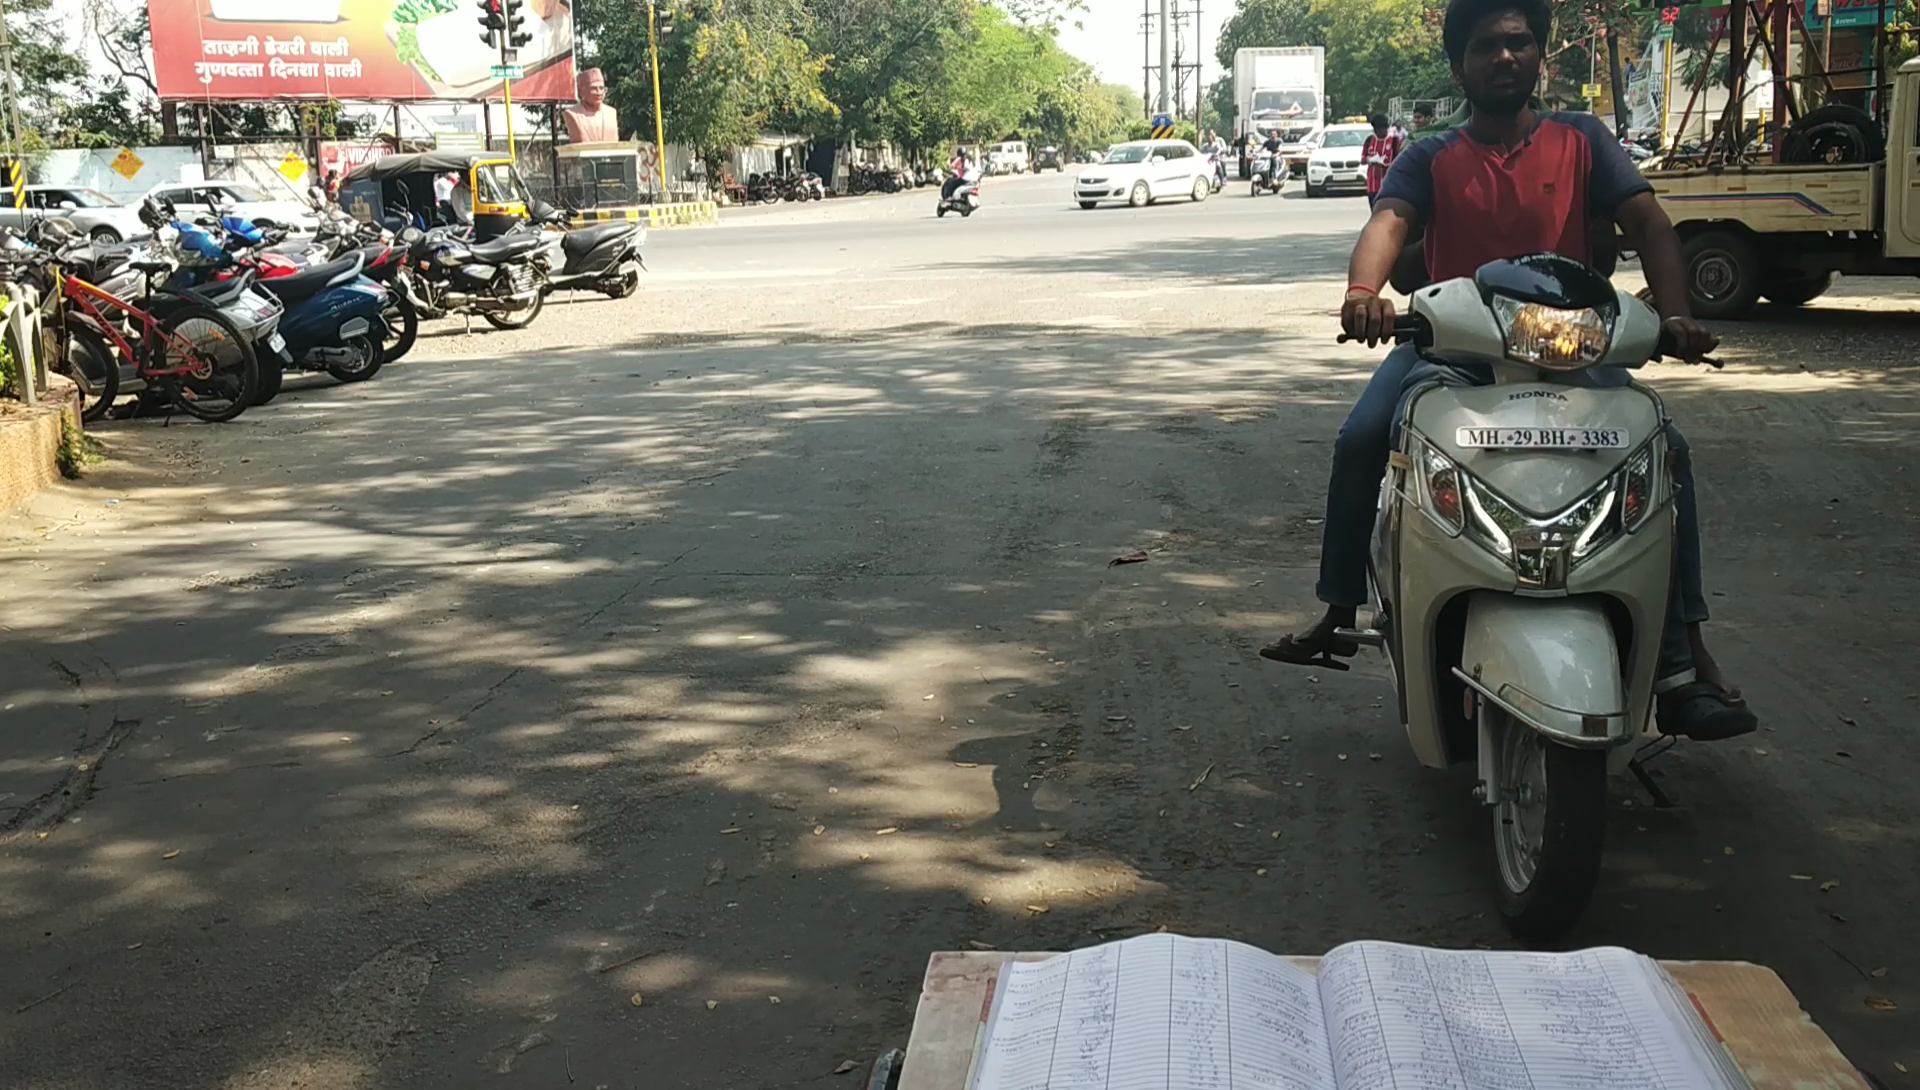car: (1329, 240, 1722, 933)
numplate: (1449, 414, 1640, 467)
